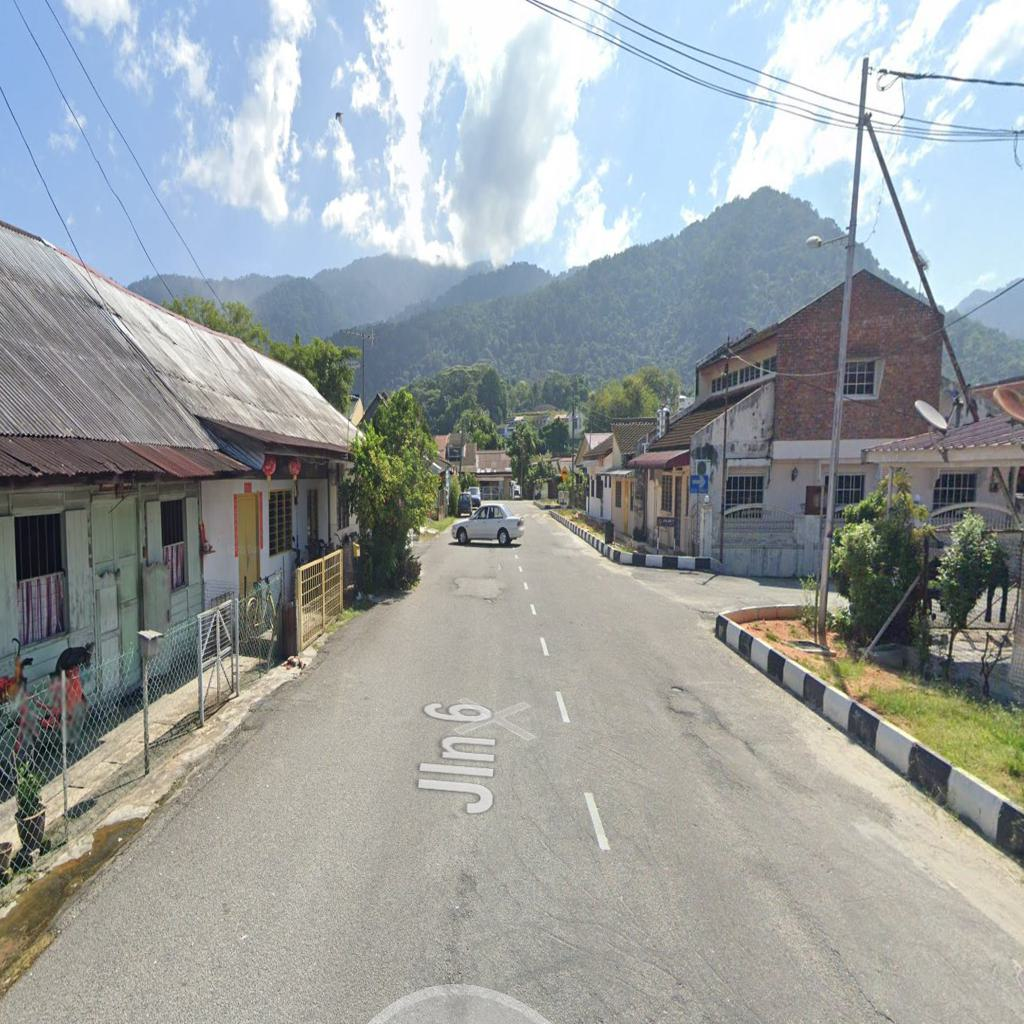Junction: (598, 520, 824, 648)
